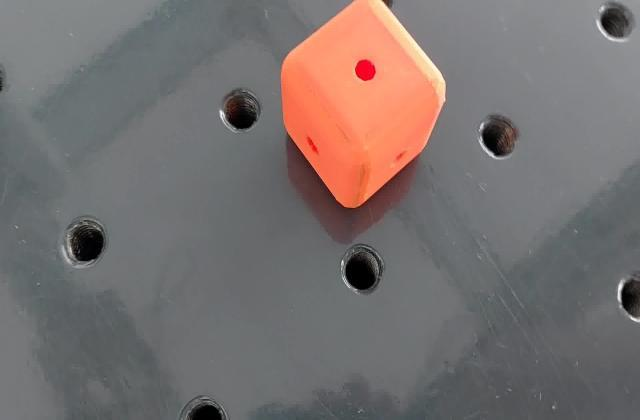cube: (280, 1, 448, 211)
